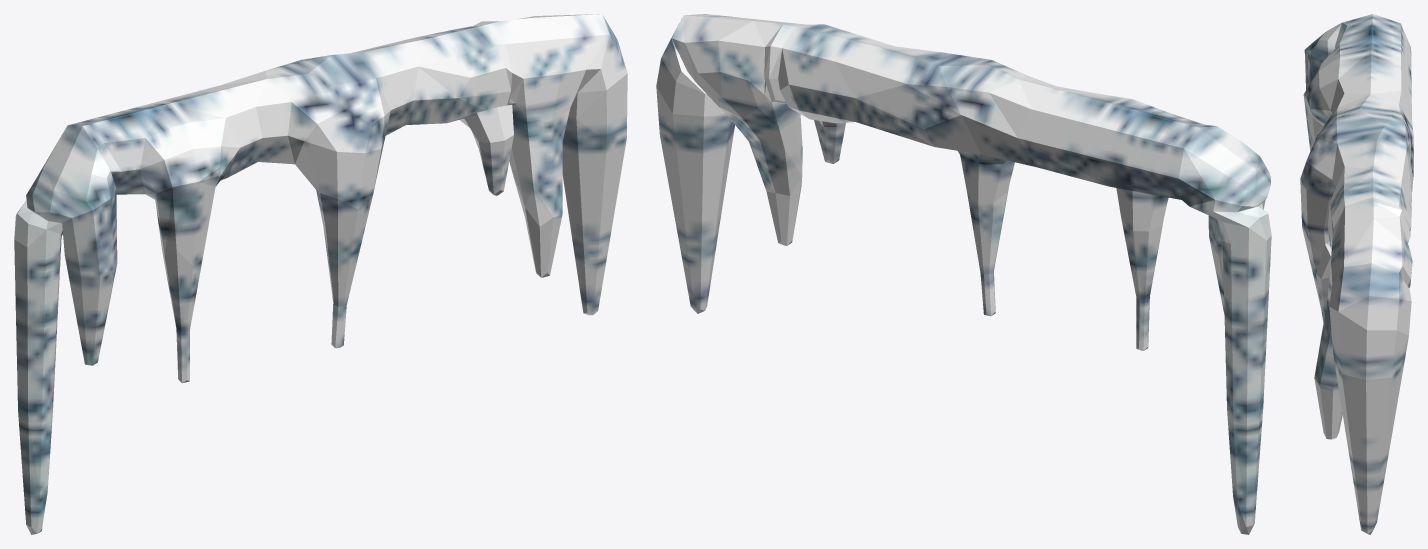
File: FridgeIceTop.fbx
3 renders of one model, left to right at view 1: azimuth 30°, elevation 25°; view 2: azimuth 150°, elevation 25°; view 3: azimuth 270°, elevation 25°, orthographic. The views are drawn at different scales.
Visible parts, largest first — view 1: FridgeIceTop; view 2: FridgeIceTop; view 3: FridgeIceTop.
Part boxes in pixels (bbox=[...]): FridgeIceTop: bbox=[14, 14, 627, 534]; FridgeIceTop: bbox=[656, 14, 1271, 534]; FridgeIceTop: bbox=[1300, 14, 1413, 534].
Bounding box in the file's own units: 75.81 × 47.79 × 13.12.
